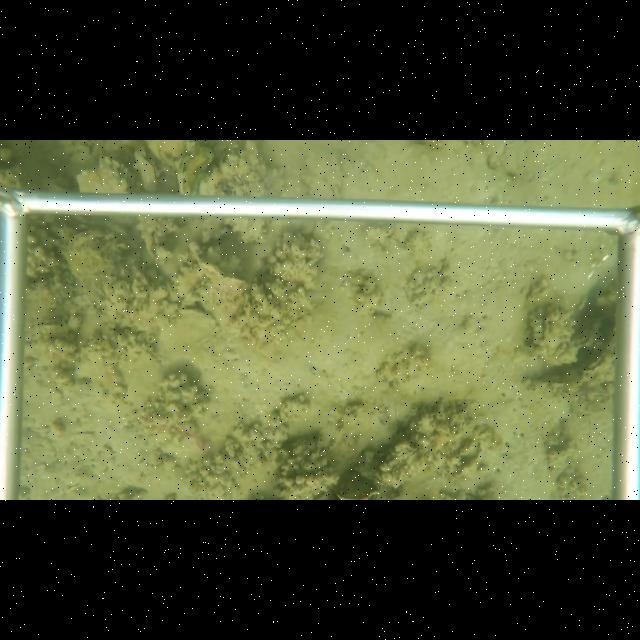Oyster-Closed: (556, 328, 615, 393), (193, 253, 252, 298), (131, 151, 159, 192), (172, 153, 197, 195)
